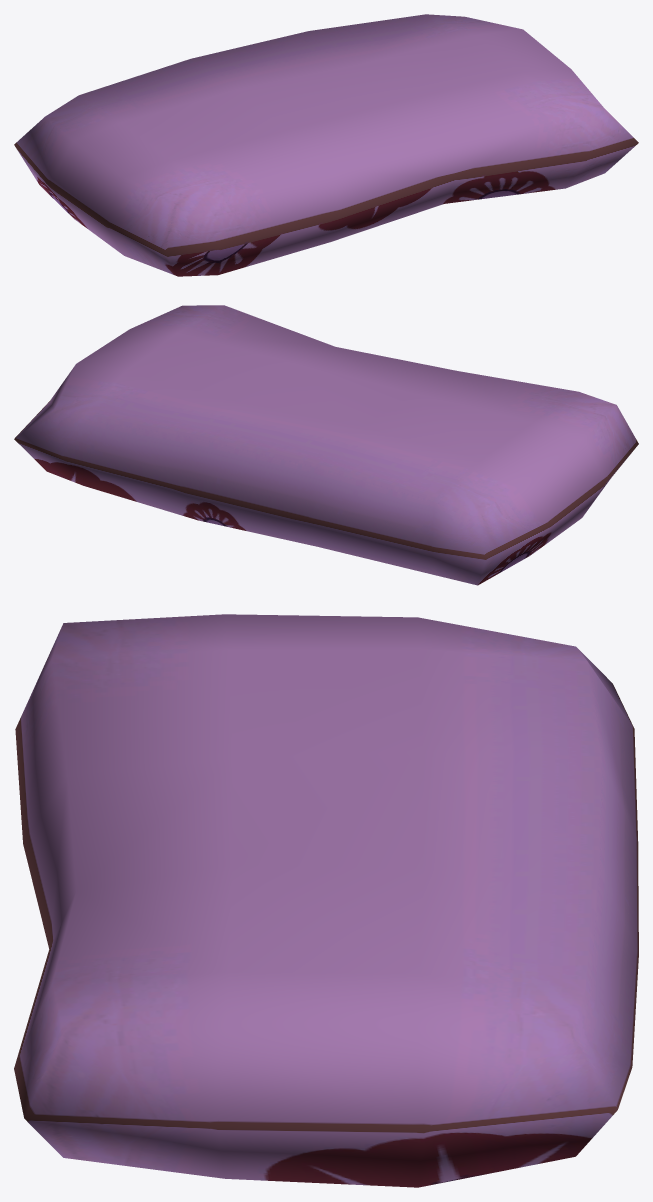
File: nt_2020_pillow_01_LOD2.obj
3 views of the same model, one above another, from view 1: azimuth 30°, elevation 25°; view 2: azimuth 150°, elevation 25°; view 3: azimuth 270°, elevation 25° (orthographic). The views are drawn at different scales.
Parts seen in each view (by area): view 1: mtl_nt_2020_pillow_01; view 2: mtl_nt_2020_pillow_01; view 3: mtl_nt_2020_pillow_01.
Boxes of the visible parts, box(x1,y1,x2,y2) form: mtl_nt_2020_pillow_01: box(14, 14, 638, 276); mtl_nt_2020_pillow_01: box(14, 305, 638, 585); mtl_nt_2020_pillow_01: box(14, 614, 638, 1187).
Size of the model in its own units: 91.86 by 17.5 by 52.6.
